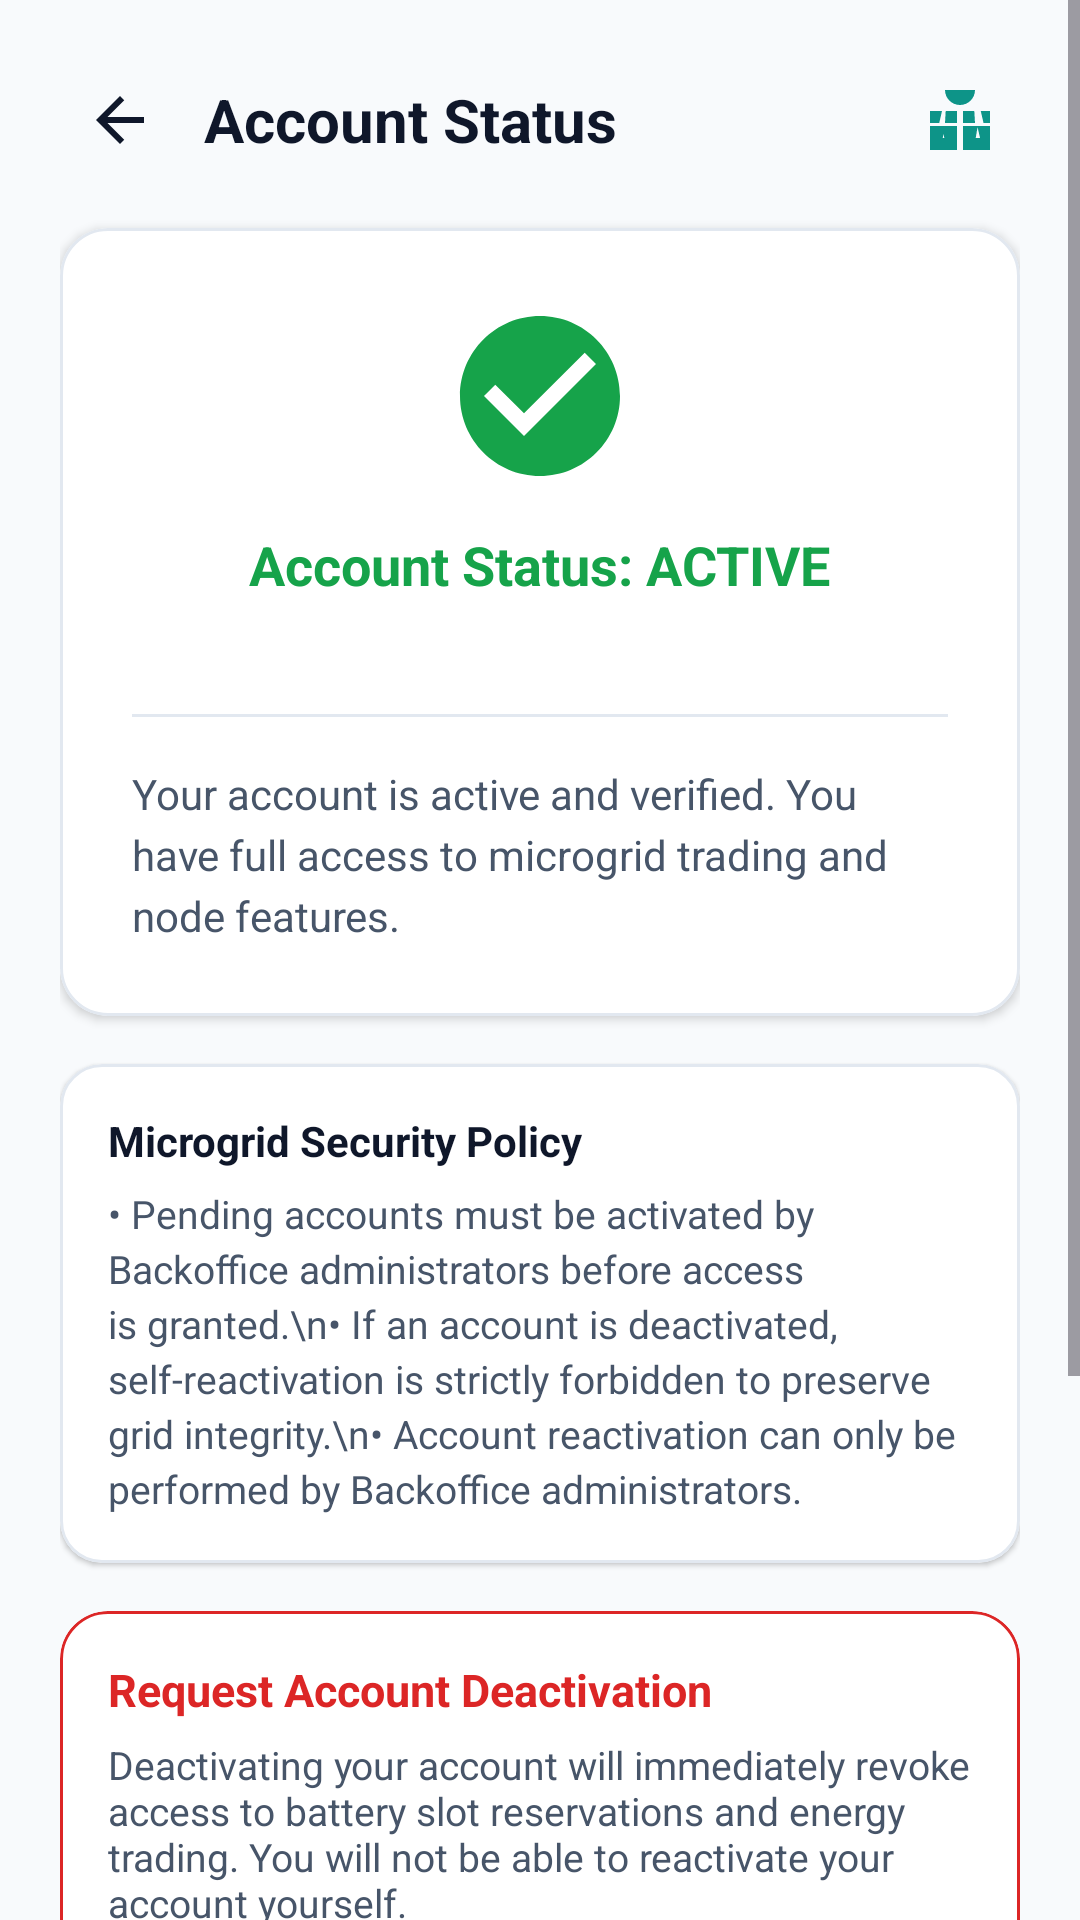

Point at icon controls on the screen. Image size 1080×1920, points as (x=x, y=y).
Back: (x=120, y=120)
